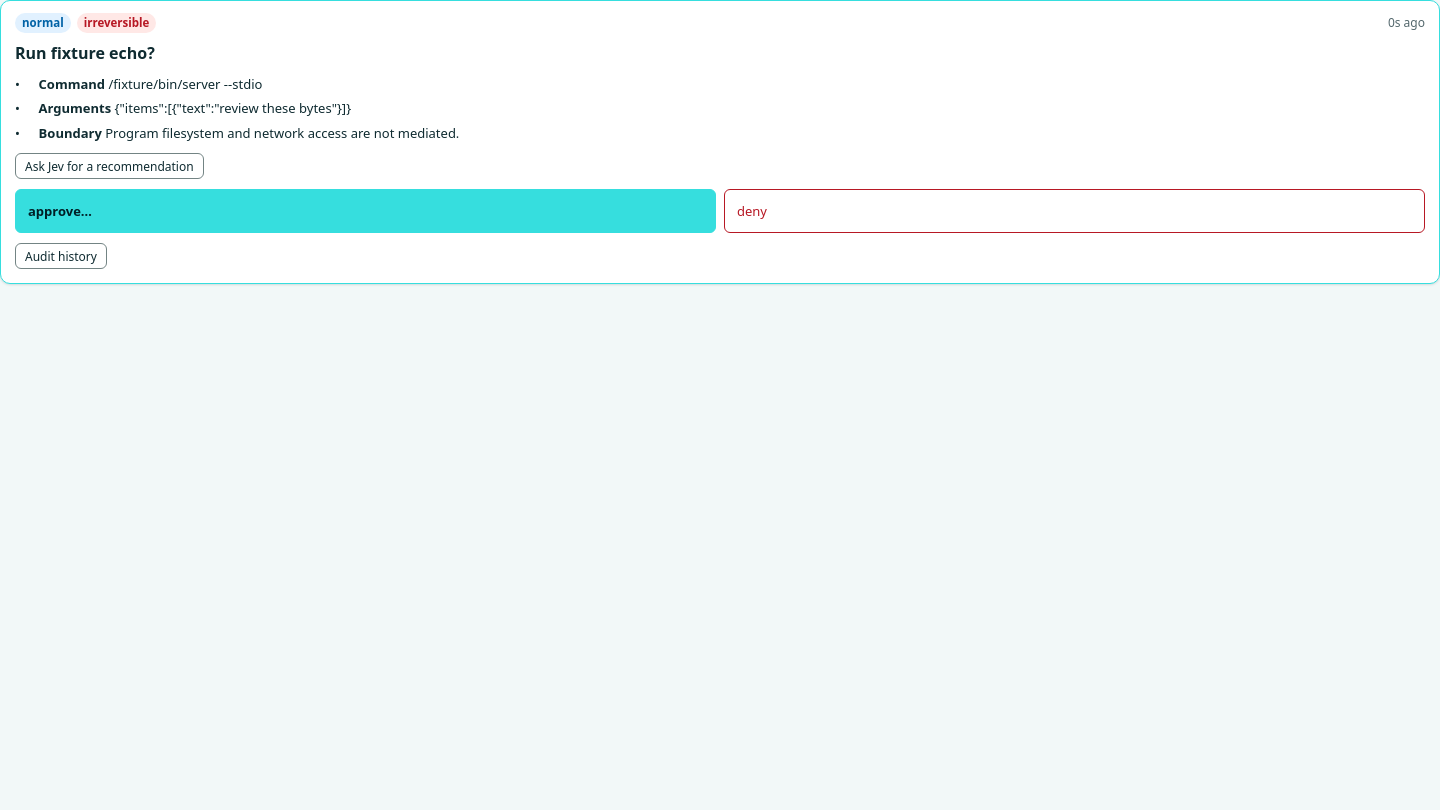
Scenario: exact plugin Decision confirmation › reports error without implying completion or retrying
The image size is (1440, 810).
Click the button "approve…": coordinates (54, 211) x1=15 y1=189 x2=716 y2=233
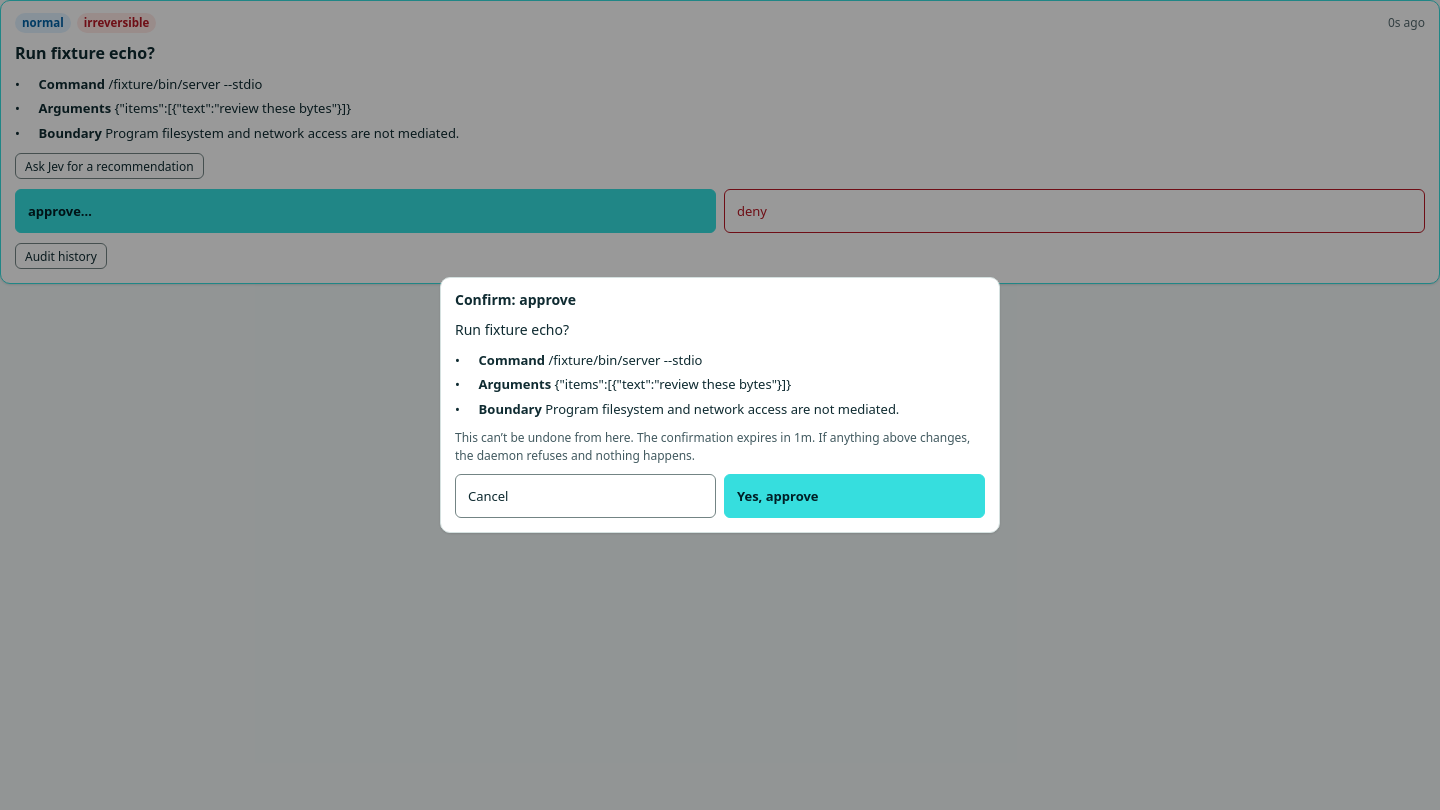
Click the button "Yes, approve": coordinates (792, 496) x1=724 y1=474 x2=985 y2=518
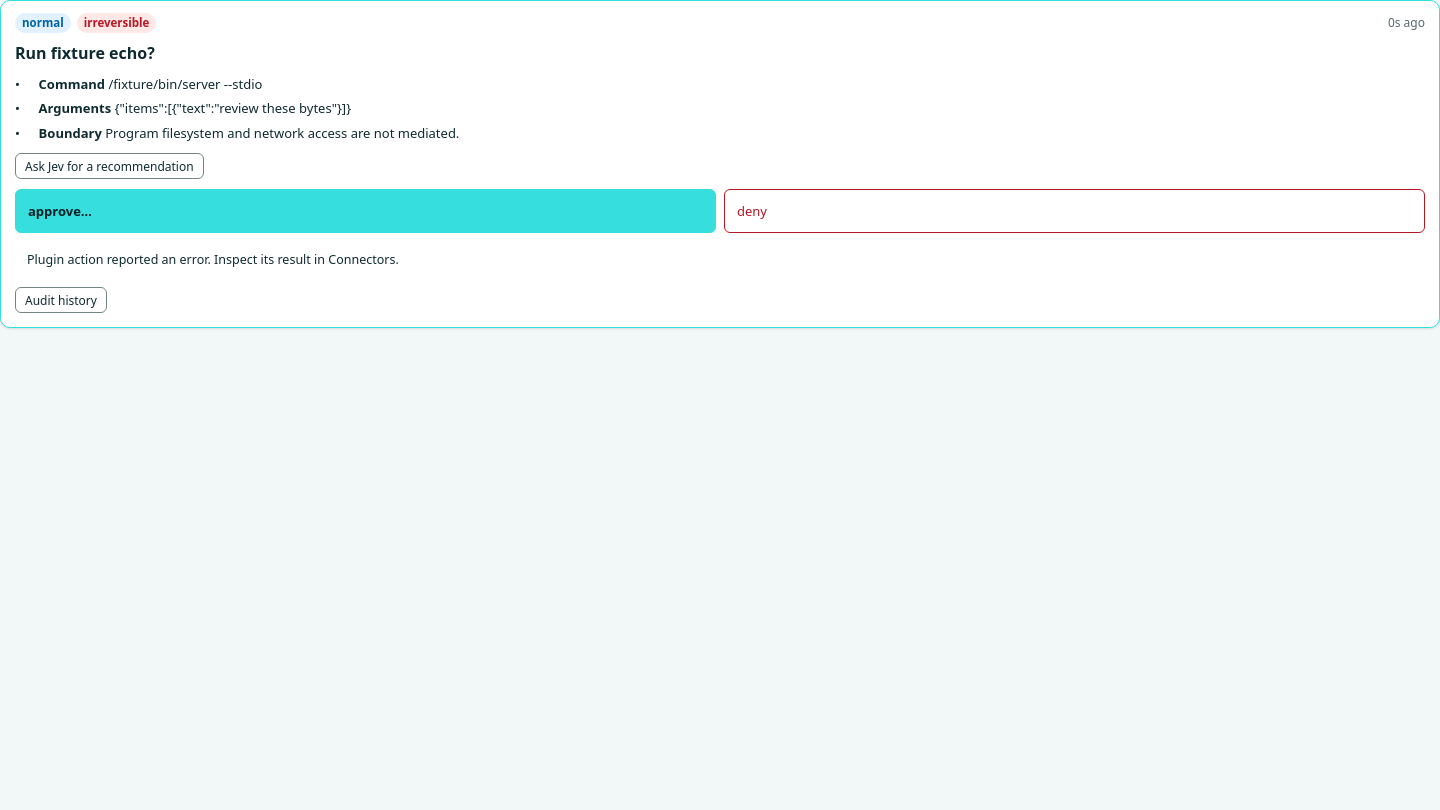
Expected: the text "Plugin action reported an error. Inspect its result in Connectors." is shown, x1=27 y1=251 x2=399 y2=268
